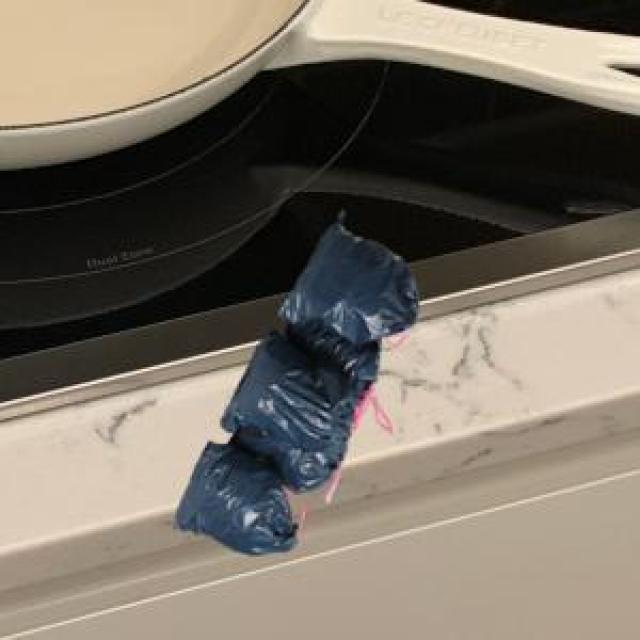miscellaneous trash: (169, 207, 414, 550)
